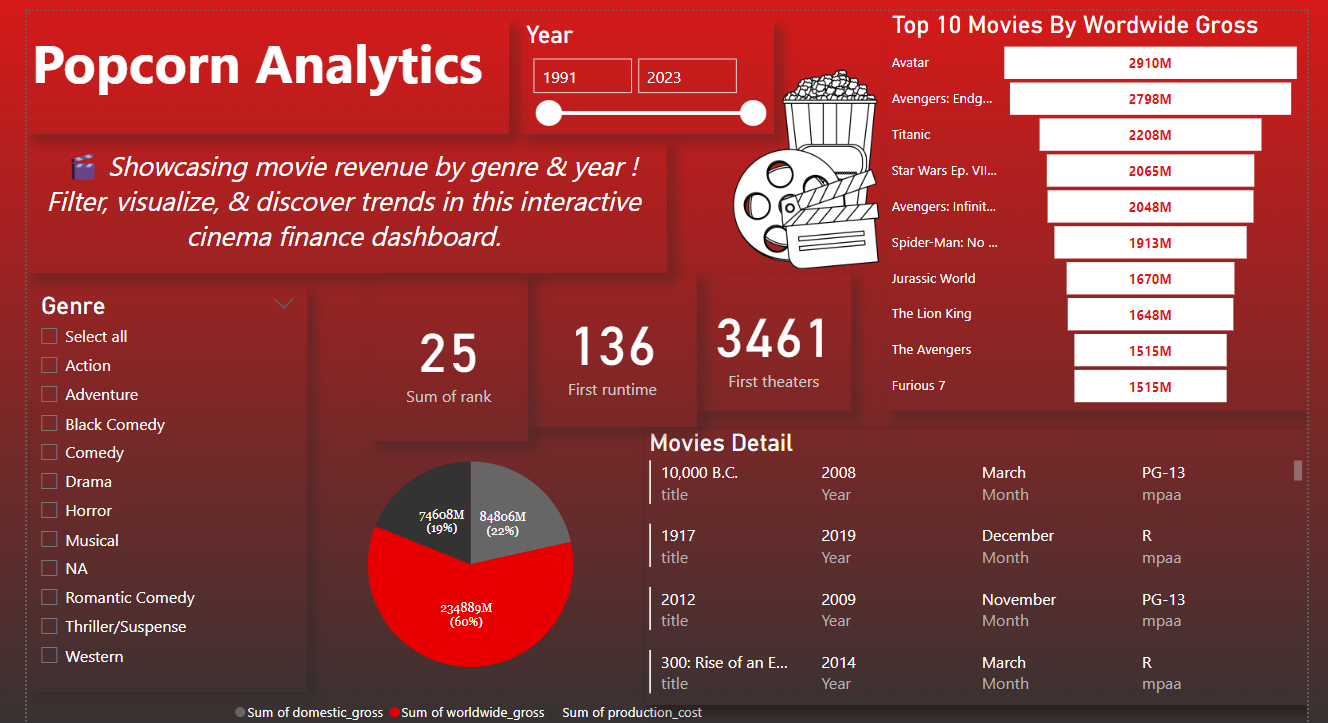

What the dashboard file says about the page in this screenshot:
{"tool":"powerbi","page":{"name":"Page 1","canvas":[1280,720],"ordinal":0},"visuals":[{"type":"slicer","fields":{"Values":["top-500-movies.genre"]},"box":[1.2,276.2,278.8,405],"z":0},{"type":"pieChart","fields":{"Y":["Sum(top-500-movies.domestic_gross)","Sum(top-500-movies.worldwide_gross)","Sum(top-500-movies.production_cost)"]},"box":[140.6,416.8,606.3,303.2],"z":1000},{"type":"textbox","box":[0,10,482.5,112.5],"z":2000},{"type":"funnel","title":"Top 10 Movies By Wordwide Gross","fields":{"Category":["top-500-movies.title"],"Y":["Sum(top-500-movies.worldwide_gross)"]},"box":[860,0,420,400],"z":3000},{"type":"textbox","box":[0,131.2,640,131.2],"z":4000},{"type":"multiRowCard","title":"Movies Detail","fields":{"Values":["top-500-movies.title","top-500-movies.release_date.Variation.Date Hierarchy.Year","top-500-movies.release_date.Variation.Date Hierarchy.Month","top-500-movies.mpaa"]},"box":[616.1,416.8,663.8,277.5],"z":5000},{"type":"card","fields":{"Values":["Sum(top-500-movies.rank)"]},"box":[342.5,262.5,158.8,167.5],"z":6000},{"type":"card","fields":{"Values":["Min(top-500-movies.runtime)"]},"box":[501.2,262.5,168.8,153.8],"z":7000},{"type":"card","fields":{"Values":["Min(top-500-movies.theaters)"]},"box":[670,262.5,153.8,137.5],"z":8000},{"type":"slicer","title":"Year","fields":{"Values":["top-500-movies.year"]},"box":[493.8,10,253.8,112.5],"z":9000},{"type":"image","box":[670,53.8,211.2,208.8],"z":9001}]}

Visuals, with their boxes on the page's 1280x720 design canvas (x1, y1, x2, y2). These are canvas units, not pixel positions in the 1328x723 screenshot, which may show the page scaled, cropped or inside an application window:
slicer - top-500-movies.genre: l=1, t=276, r=280, b=681
pieChart - Sum(top-500-movies.domestic_gross) x Sum(top-500-movies.worldwide_gross): l=141, t=417, r=747, b=720
textbox: l=0, t=10, r=482, b=122
"Top 10 Movies By Wordwide Gross" funnel: l=860, t=0, r=1280, b=400
textbox: l=0, t=131, r=640, b=262
"Movies Detail" multiRowCard: l=616, t=417, r=1280, b=694
card - Sum(top-500-movies.rank): l=342, t=262, r=501, b=430
card - Min(top-500-movies.runtime): l=501, t=262, r=670, b=416
card - Min(top-500-movies.theaters): l=670, t=262, r=824, b=400
"Year" slicer: l=494, t=10, r=748, b=122
image: l=670, t=54, r=881, b=263
